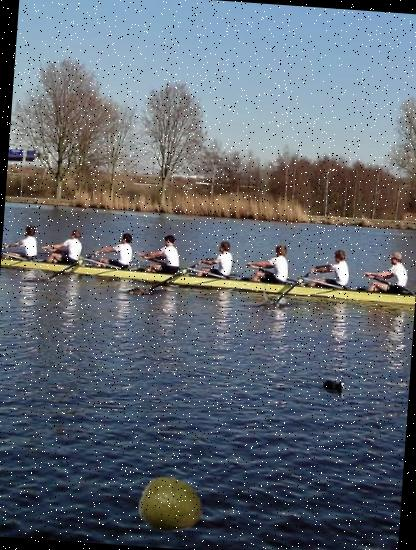Guava: (137, 472, 206, 541)
